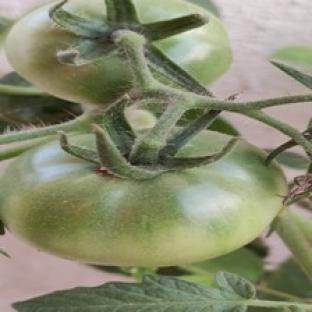Tomato: (0, 140, 286, 266), (6, 2, 132, 104)
